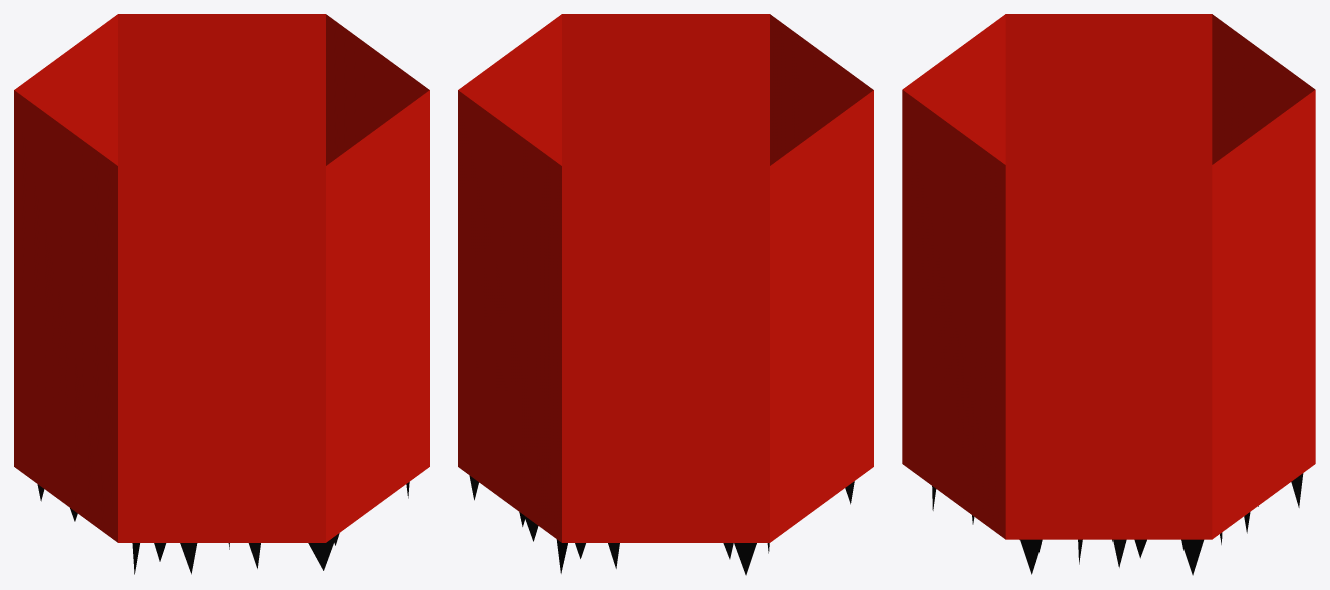
File: HexCrusher.fbx
The picture shows the model from 3 angles, left to right: view 1: azimuth 30°, elevation 25°; view 2: azimuth 150°, elevation 25°; view 3: azimuth 270°, elevation 25°; orthographic projection.
Visible parts, largest first — view 1: Hexagon; view 2: Hexagon; view 3: Hexagon.
Part boxes in pixels (bbox=[...]): Hexagon: bbox=[14, 14, 429, 574]; Hexagon: bbox=[458, 14, 873, 575]; Hexagon: bbox=[902, 14, 1315, 575].
Size of the model in its own units: 693 by 891 by 800.
